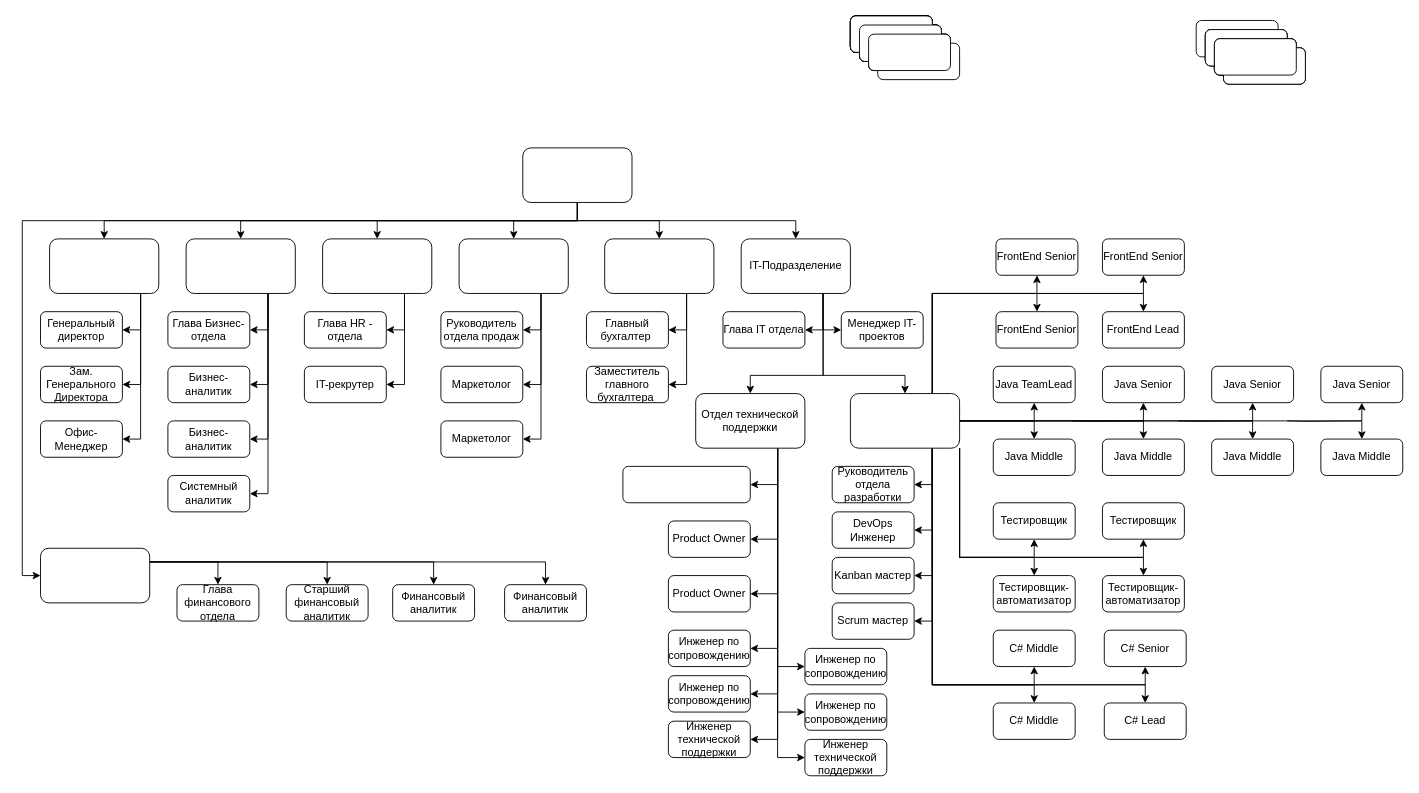
Image size: 1419x793. Some labels were removed from this diagram. The centre of each missing label's shape, as x and y in pixels:
HR: (x=377, y=265)
Бизнес отдел: (x=240, y=265)
Бухгалтерия: (x=659, y=265)
ООО "Right Line": (x=577, y=174)
Отдел продаж: (x=513, y=265)
Отдел разработки: (x=904, y=420)
Руководитель отдела технической поддержки: (x=686, y=484)
Руководство: (x=104, y=265)
Финансовый отдел: (x=95, y=575)
